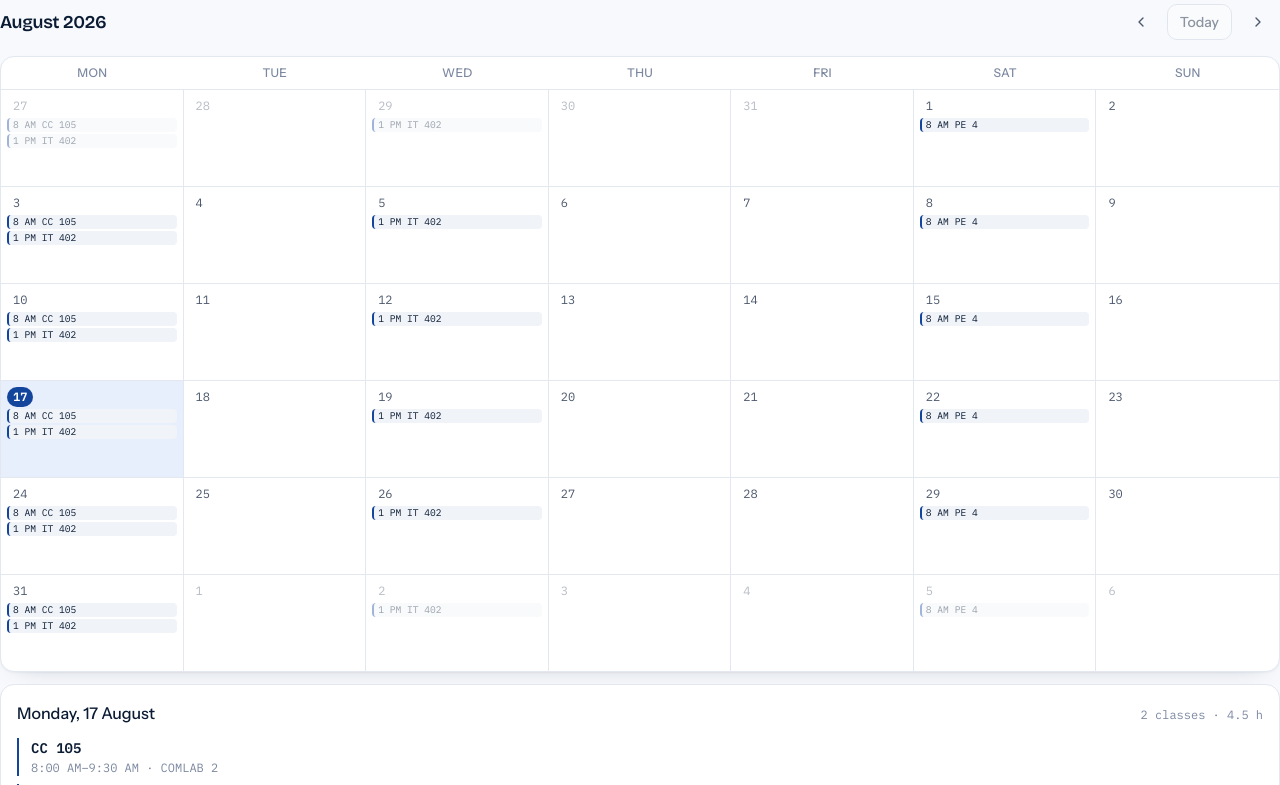
Scenario: the month grid › says so plainly on an empty day
Click the button named "Sunday, 23 August" at x=1188, y=429, box [1096, 381, 1279, 477]
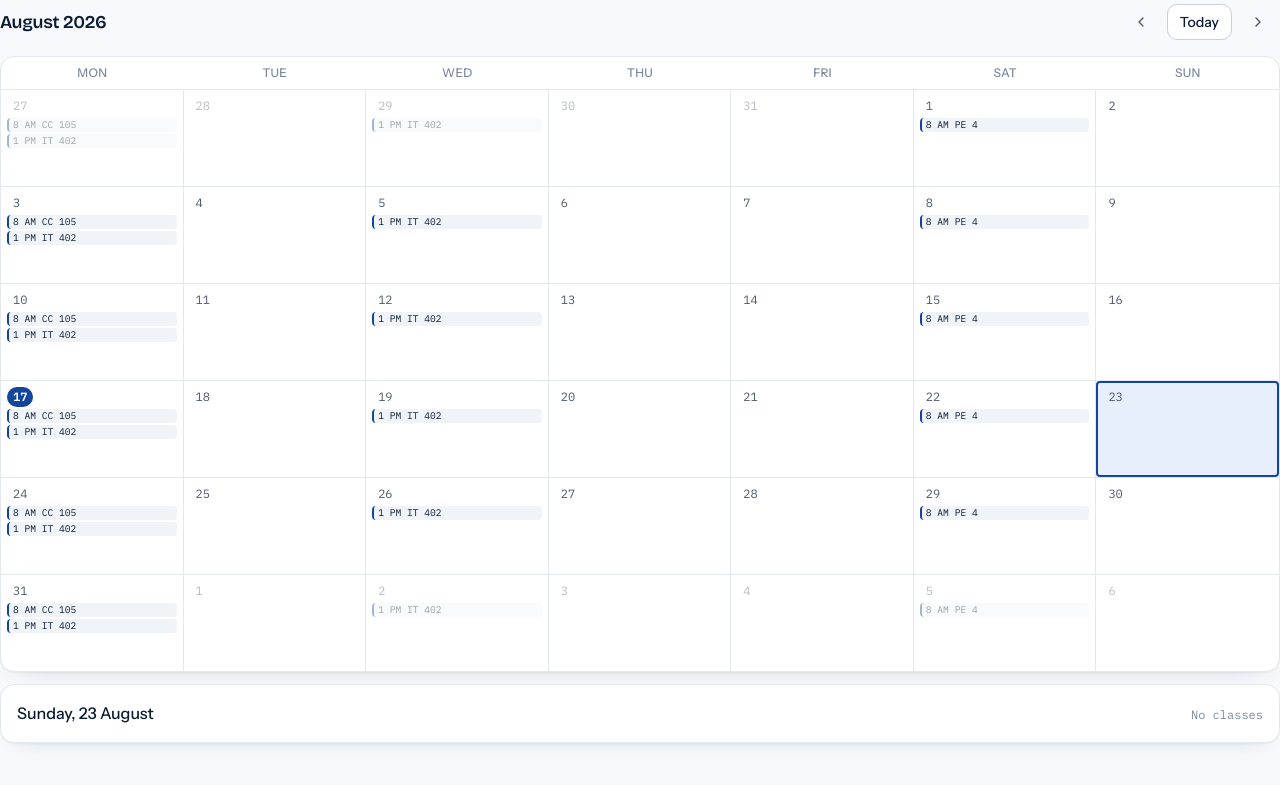
Now the text "No classes" is shown, box [1191, 707, 1263, 723]
